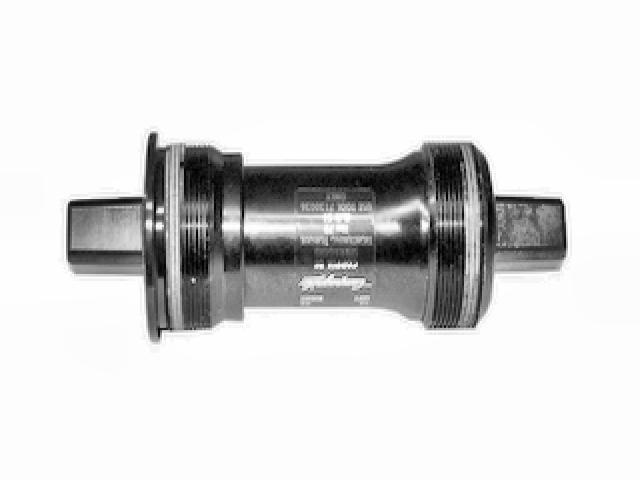bottom_bracket: (62, 125, 570, 344)
